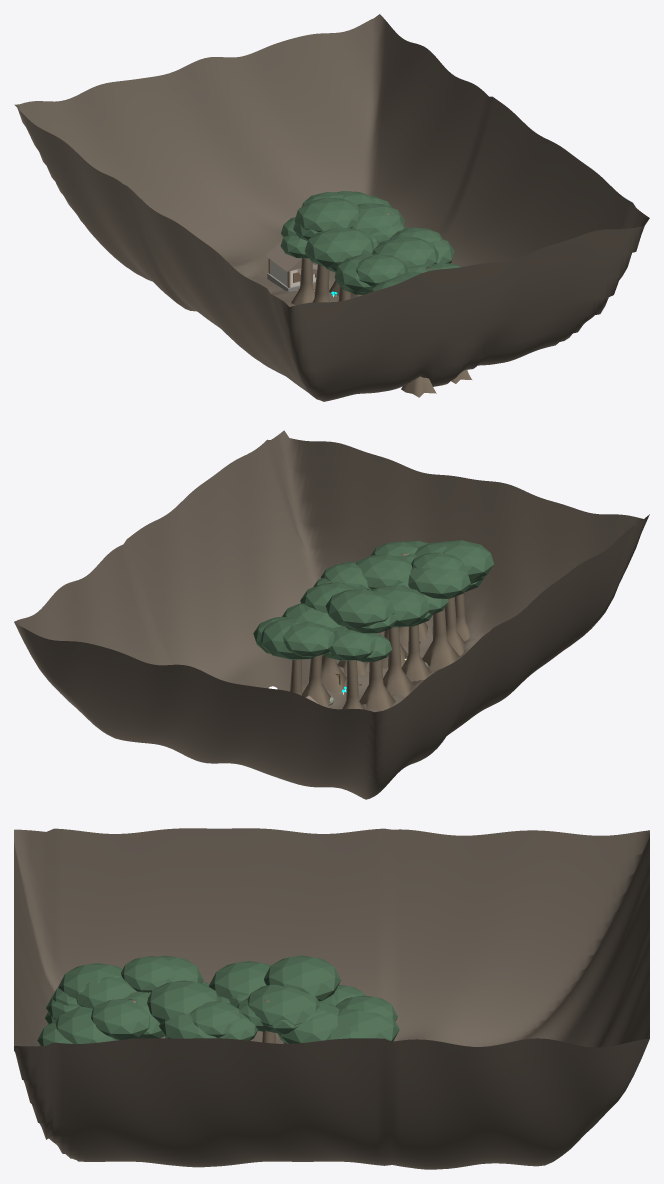
File: aether_grove_trail_v1.glb
The picture shows the model from 3 angles, top to bottom: view 1: azimuth 30°, elevation 25°; view 2: azimuth 150°, elevation 25°; view 3: azimuth 270°, elevation 25°; orthographic projection. The views are drawn at different scales.
Parts seen in each view (by area): view 1: AetherGrove_Terrain, Tree_L_05_Canopy_2, Tree_L_06_Canopy_2, Tree_R_03_Canopy_2, Tree_L_03_Canopy_1, Tree_R_05_Canopy_2, Tree_L_03_Canopy_0, Tree_L_07; view 2: AetherGrove_Terrain, Tree_L_06_Canopy_2, Tree_L_03_Canopy_0, Tree_R_03_Canopy_2, Tree_R_07_Canopy_0, Tree_L_05_Canopy_2, Tree_L_02_Canopy_1, Tree_L_03, Tree_L_07_Canopy_2, Tree_L_05, Tree_R_07_Canopy_2, Tree_L_06 (+9 smaller); view 3: AetherGrove_Terrain, Tree_L_06_Canopy_2, Tree_R_05_Canopy_2, Tree_R_03_Canopy_2, Tree_R_02_Canopy_0, Tree_L_05_Canopy_2, Tree_L_03_Canopy_1, Tree_R_07_Canopy_2, Tree_R_01_Canopy_2, Tree_R_04_Canopy_2, Tree_R_06_Canopy_0, Tree_L_02_Canopy_1 (+6 smaller).
Part boxes in pixels (<box>): AetherGrove_Terrain: <box>14,14,649,401</box>; Tree_L_05_Canopy_2: <box>304,227,373,267</box>; Tree_L_06_Canopy_2: <box>294,197,359,231</box>; Tree_R_03_Canopy_2: <box>372,236,438,266</box>; Tree_L_03_Canopy_1: <box>356,254,407,286</box>; Tree_R_05_Canopy_2: <box>352,203,404,234</box>; Tree_L_03_Canopy_0: <box>334,254,379,292</box>; Tree_L_07: <box>291,258,314,305</box>; AetherGrove_Terrain: <box>14,430,649,799</box>; Tree_L_06_Canopy_2: <box>325,589,394,628</box>; Tree_L_03_Canopy_0: <box>408,567,470,598</box>; Tree_R_03_Canopy_2: <box>356,554,412,589</box>; Tree_R_07_Canopy_0: <box>283,622,334,656</box>; Tree_L_05_Canopy_2: <box>370,585,429,626</box>; Tree_L_02_Canopy_1: <box>441,540,494,580</box>; Tree_L_03: <box>422,608,459,671</box>; Tree_L_07_Canopy_2: <box>329,629,375,660</box>; Tree_L_05: <box>383,627,413,696</box>; Tree_R_07_Canopy_2: <box>261,617,315,659</box>; Tree_L_06: <box>359,632,395,710</box>; AetherGrove_Terrain: <box>14,828,649,1169</box>; Tree_L_06_Canopy_2: <box>264,955,340,1001</box>; Tree_R_05_Canopy_2: <box>247,984,319,1025</box>; Tree_R_03_Canopy_2: <box>147,980,220,1023</box>; Tree_R_02_Canopy_0: <box>91,999,150,1039</box>; Tree_L_05_Canopy_2: <box>208,961,270,998</box>; Tree_L_03_Canopy_1: <box>121,956,176,992</box>; Tree_R_07_Canopy_2: <box>337,1008,399,1041</box>; Tree_R_01_Canopy_2: <box>55,1006,118,1043</box>; Tree_R_04_Canopy_2: <box>190,1001,240,1037</box>; Tree_R_06_Canopy_0: <box>277,1002,338,1043</box>; Tree_L_02_Canopy_1: <box>58,963,122,998</box>.
Size of the model in its own units: 50 by 20.13 by 64.
